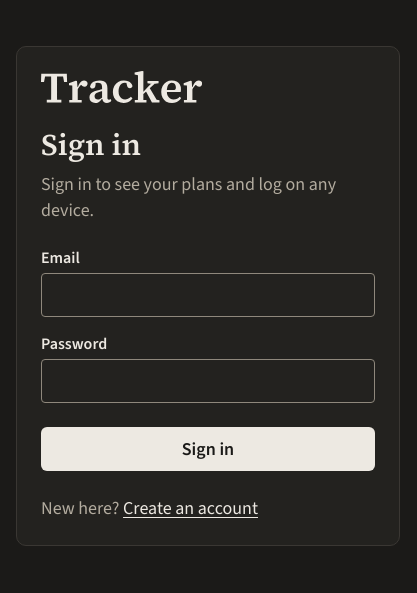
Test case: signing in › explains a wrong password
Type "correct horse battery" into the password field with id "login-password".
click(208, 381); type("correct horse battery")  # box [41,359,375,403]
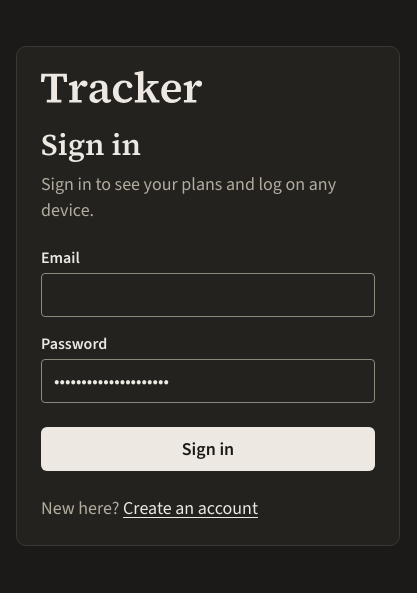
Submit the form, box [41,247,375,471]
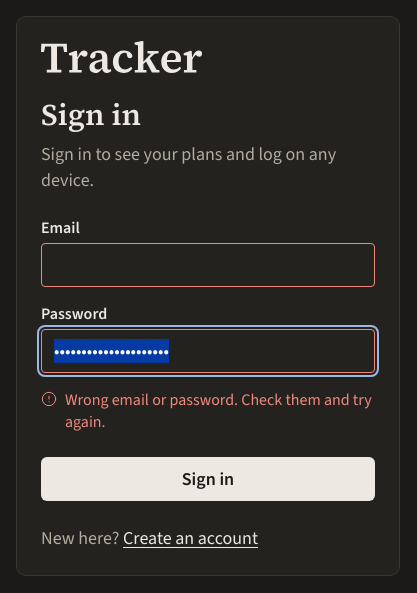
Expected: the heading "Sign in" is shown, [41,94,141,135]
Result: the message with test id "login-problem" reads "Wrong email or password. Check them and try again." at [65,389,372,432]
